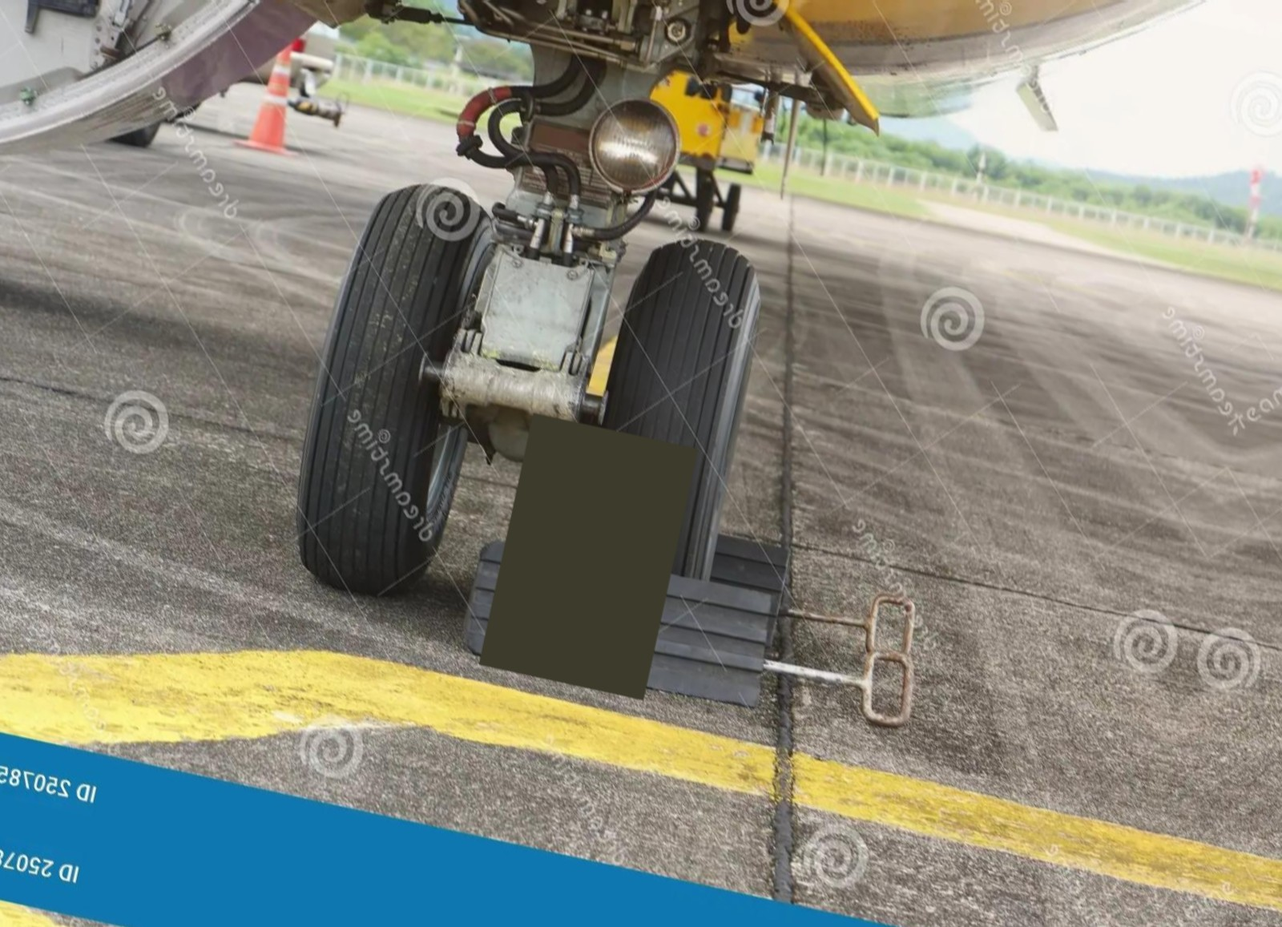chock: (454, 531, 784, 711), (516, 485, 805, 603)
wheel: (281, 172, 523, 601), (567, 221, 777, 579)
